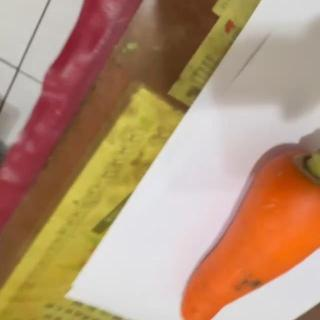carrot: (180, 146, 320, 320)
